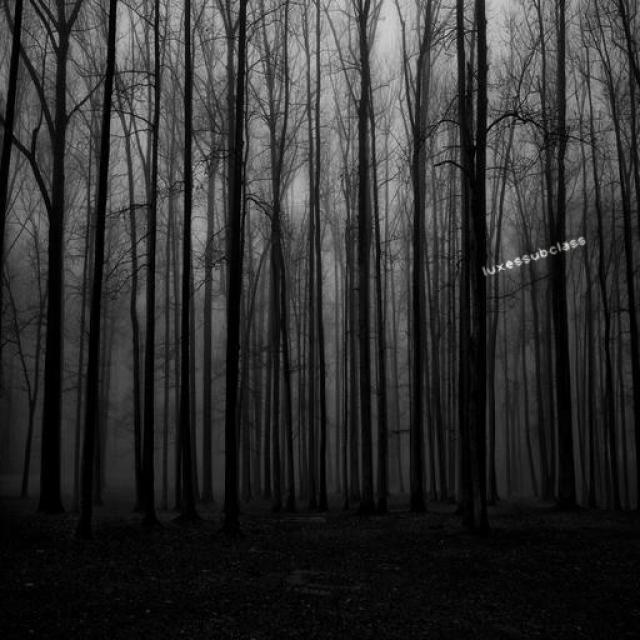watermark: (479, 231, 586, 278)
